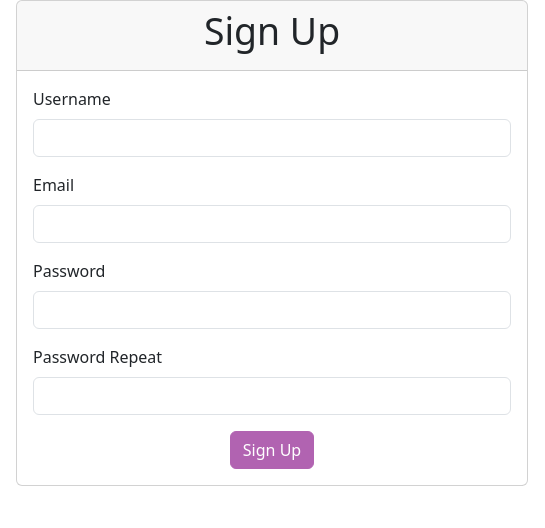
Test: Sign Up › when user sets same value for password inputs › when user submits form › when there is an ongoing api call › displays spinner
Step 1. Type "user1" into the field labelled "Username" → (272, 138), box x1=33 y1=119 x2=511 y2=157
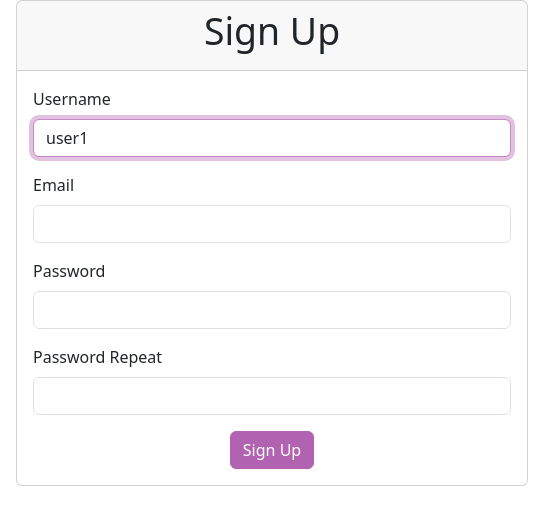
Step 2. Type "user123@mail.com" into the field labelled "Email" → (272, 224), box x1=33 y1=205 x2=511 y2=243
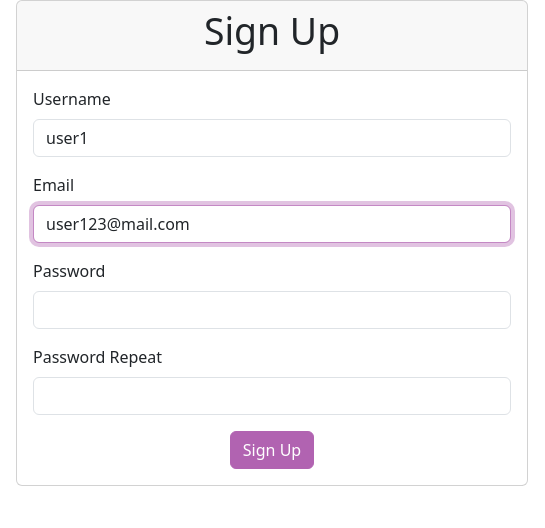
Step 3. Type "Password1" into the password field labelled "Password" → (272, 310), box x1=33 y1=291 x2=511 y2=329
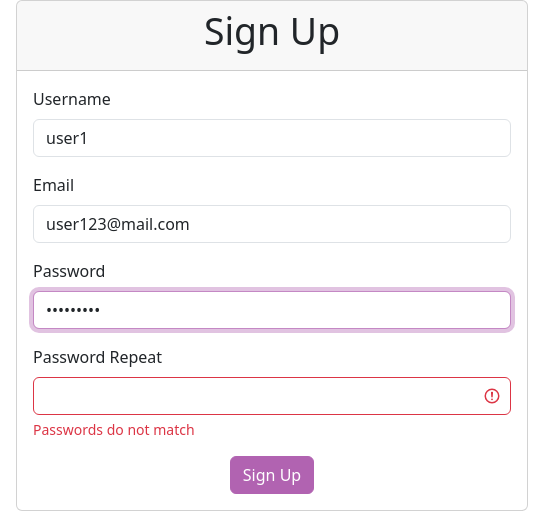
Step 4. Type "Password1" into the password field labelled "Password Repeat" → (272, 396), box x1=33 y1=377 x2=511 y2=415
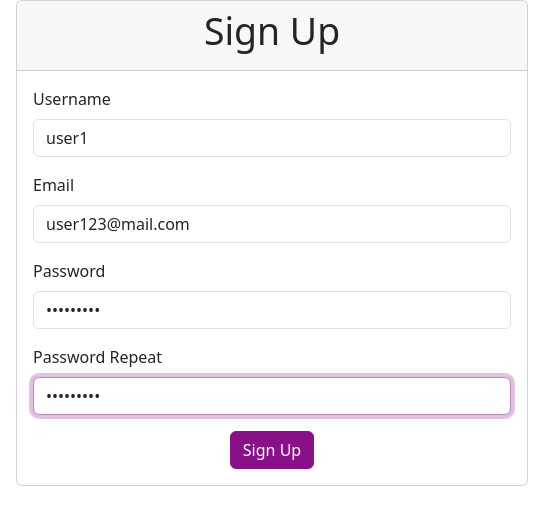
Step 5. Click the button "Sign Up" → (272, 450), box x1=230 y1=431 x2=314 y2=469
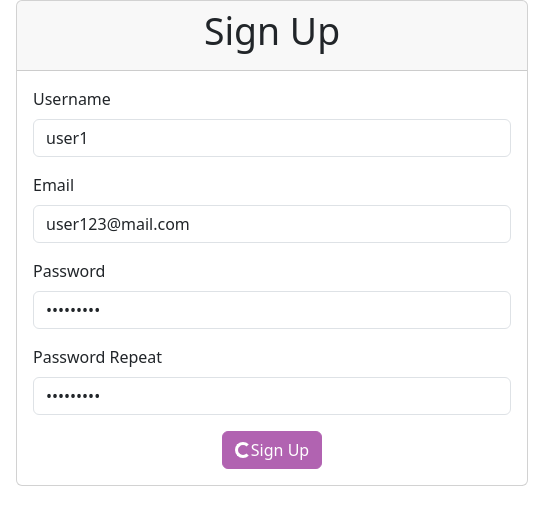
Expected: the message is shown, x1=235 y1=442 x2=251 y2=458
